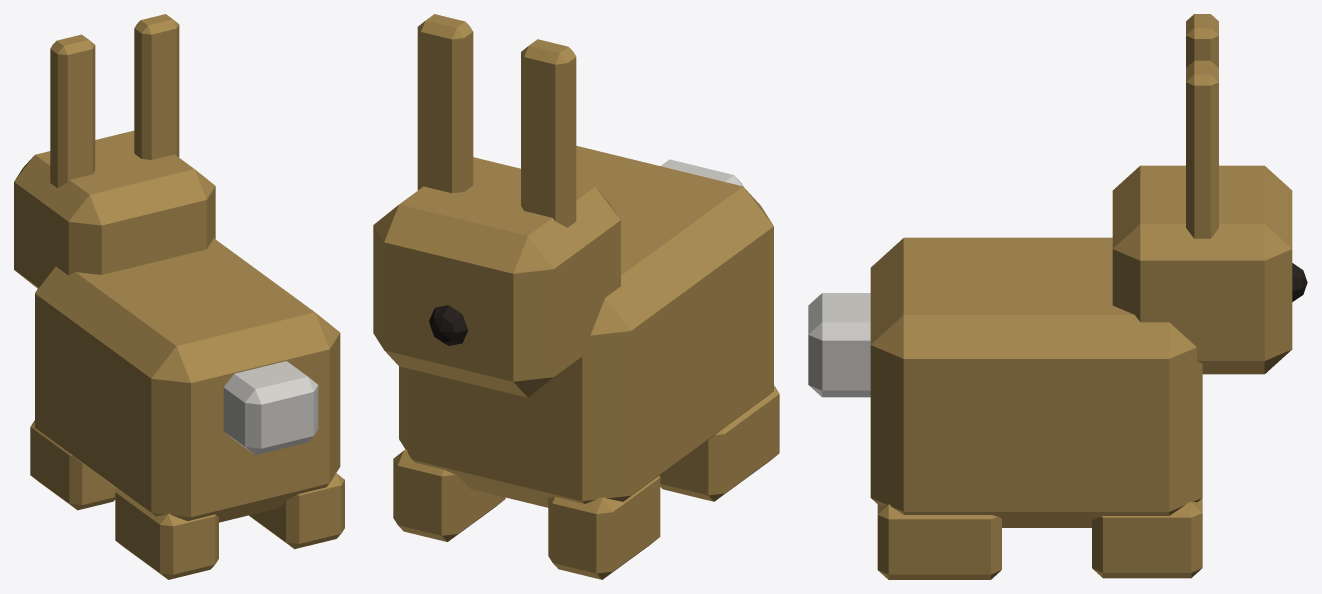
The model's file is Rabbit.glb.
3 views of the same model, side by side, from view 1: azimuth 30°, elevation 25°; view 2: azimuth 150°, elevation 25°; view 3: azimuth 270°, elevation 25° (orthographic). The views are drawn at different scales.
Visible parts, largest first — view 1: Body; view 2: Body; view 3: Body.
Part boxes in pixels (x1,y1,x2,y2): Body: (14, 14, 344, 579); Body: (373, 14, 779, 579); Body: (808, 14, 1307, 579).
Size of the model in its own units: 0.9 by 1.95 by 1.81.
